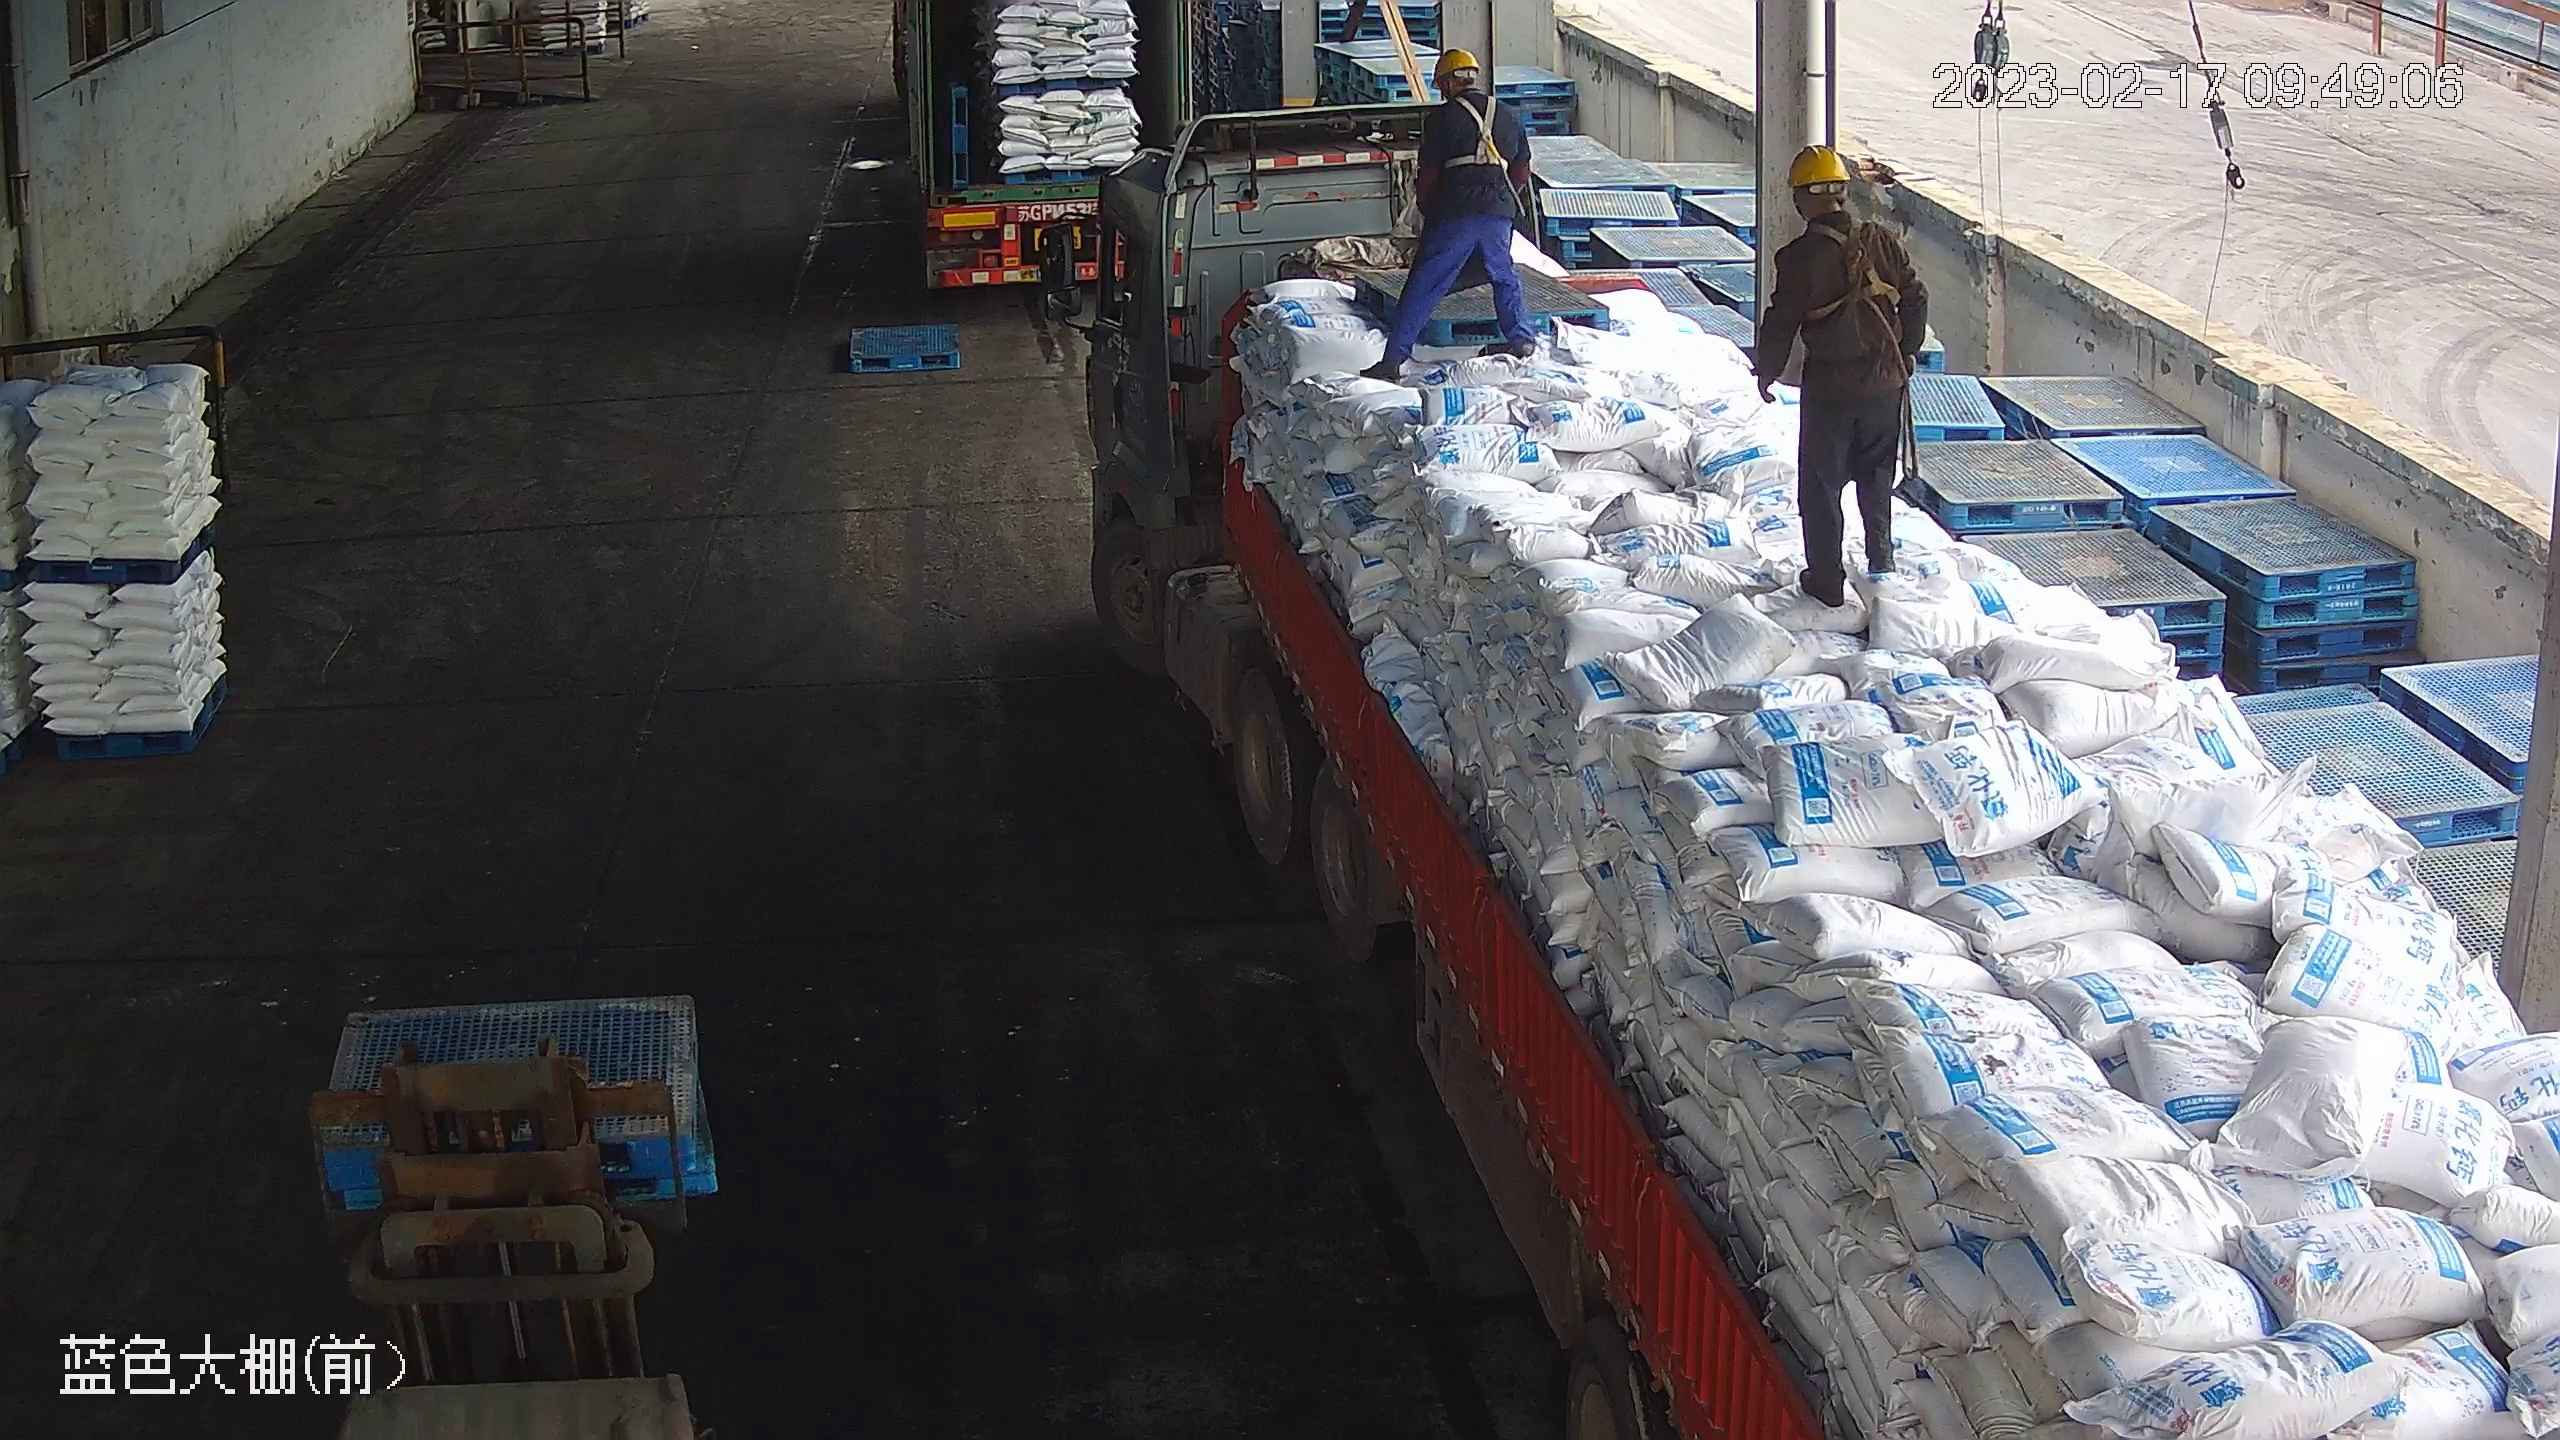belt: (1809, 213, 1907, 320), (1432, 93, 1514, 171)
head: (1775, 144, 1908, 277), (1422, 45, 1519, 130)
helmet: (1782, 143, 1854, 189), (1435, 45, 1480, 77)
people: (1752, 141, 1936, 612), (1365, 41, 1537, 384)
truck: (1027, 95, 2558, 1440), (888, 1, 1203, 314)
